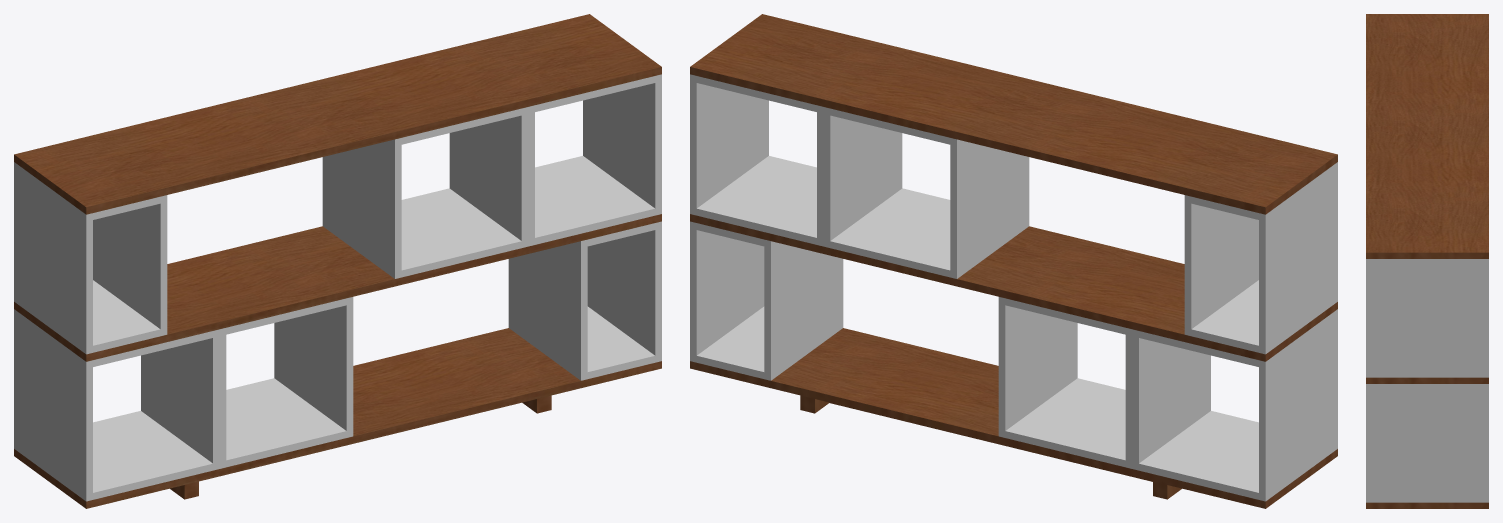
File: shelf.glb
3 views of the same model, side by side, from view 1: azimuth 30°, elevation 25°; view 2: azimuth 150°, elevation 25°; view 3: azimuth 270°, elevation 25° (orthographic). The views are drawn at different scales.
Parts seen in each view (by area): view 1: instance_6, instance_0, instance_3, instance_1, instance_4, instance_7.001, instance_8.001, instance_5.001, instance_1.001, instance_7, instance_2, instance_2.001 (+3 smaller); view 2: instance_6, instance_0, instance_3, instance_1, instance_4, instance_7.001, instance_8.001, instance_5.001, instance_1.001, instance_7, instance_2, instance_2.001 (+3 smaller); view 3: instance_6, instance_2, instance_5, instance_0, instance_3.
Boxes of the visible parts, x1,y1,x2,y2 form: instance_6: (14,14,661,214); instance_0: (14,328,661,508); instance_3: (14,214,661,361); instance_1: (14,309,219,501); instance_4: (14,162,167,354); instance_7.001: (401,115,521,270); instance_8.001: (226,305,346,460); instance_5.001: (535,83,655,237); instance_1.001: (93,338,212,492); instance_7: (322,107,528,278); instance_2: (508,221,661,380); instance_2.001: (587,230,655,371); instance_6: (690,14,1337,214); instance_0: (690,328,1337,508); instance_3: (690,214,1337,361); instance_1: (1132,309,1337,501); instance_4: (1184,162,1337,354); instance_7.001: (830,115,950,270); instance_8.001: (1005,305,1125,460); instance_5.001: (696,83,816,237); instance_1.001: (1139,338,1258,492); instance_7: (823,107,1029,278); instance_2: (690,221,843,380); instance_2.001: (696,230,764,371); instance_6: (1366,14,1488,258); instance_2: (1366,384,1488,502); instance_5: (1366,259,1488,377); instance_0: (1366,502,1488,508); instance_3: (1366,377,1488,383).
Bounding box in the file's own units: 1.38 × 0.7379 × 0.3.
Materials: 2 (1 with a texture image).
